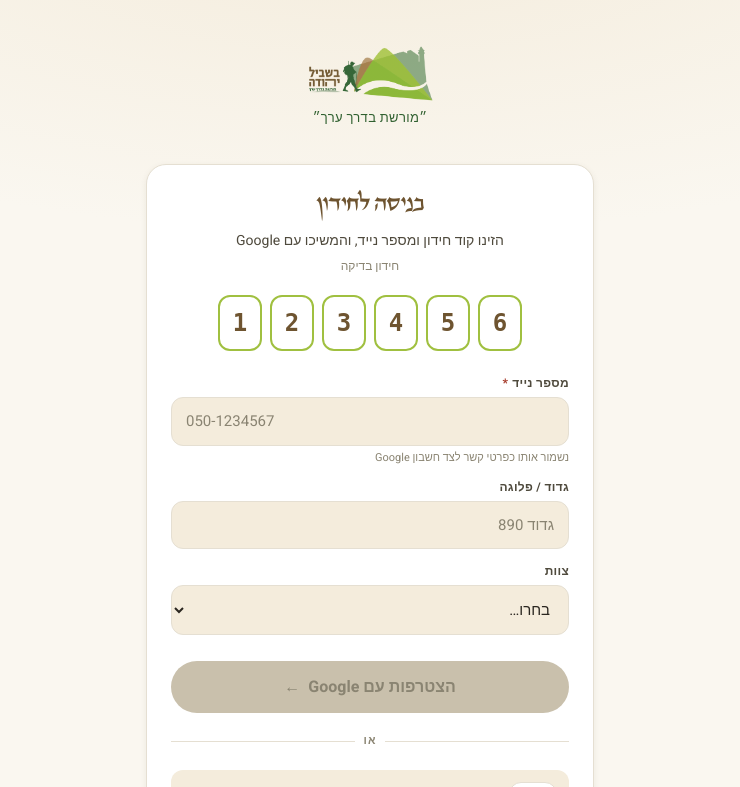
Test: JoinScreen › prefills the PIN from a valid route param and enables Google join after phone is valid
The image size is (740, 787).
In the field labelled "מספר נייד*": (370, 421) [171,397,569,446], type "0501234567"
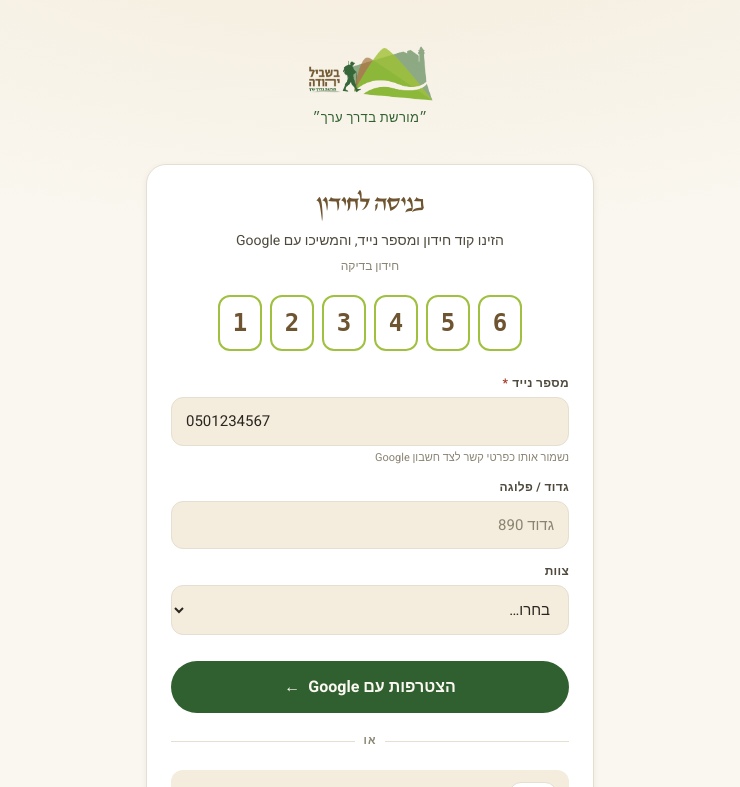
Check: the button "הצטרפות עם Google ←" is enabled, box [171,661,569,713]
